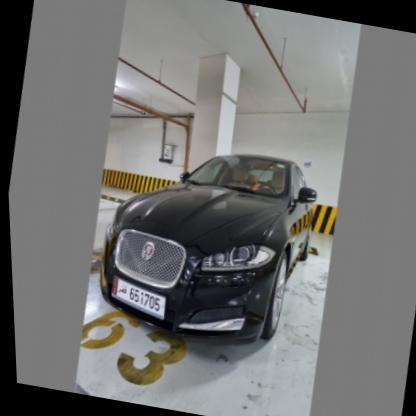np: (103, 274, 168, 322)
